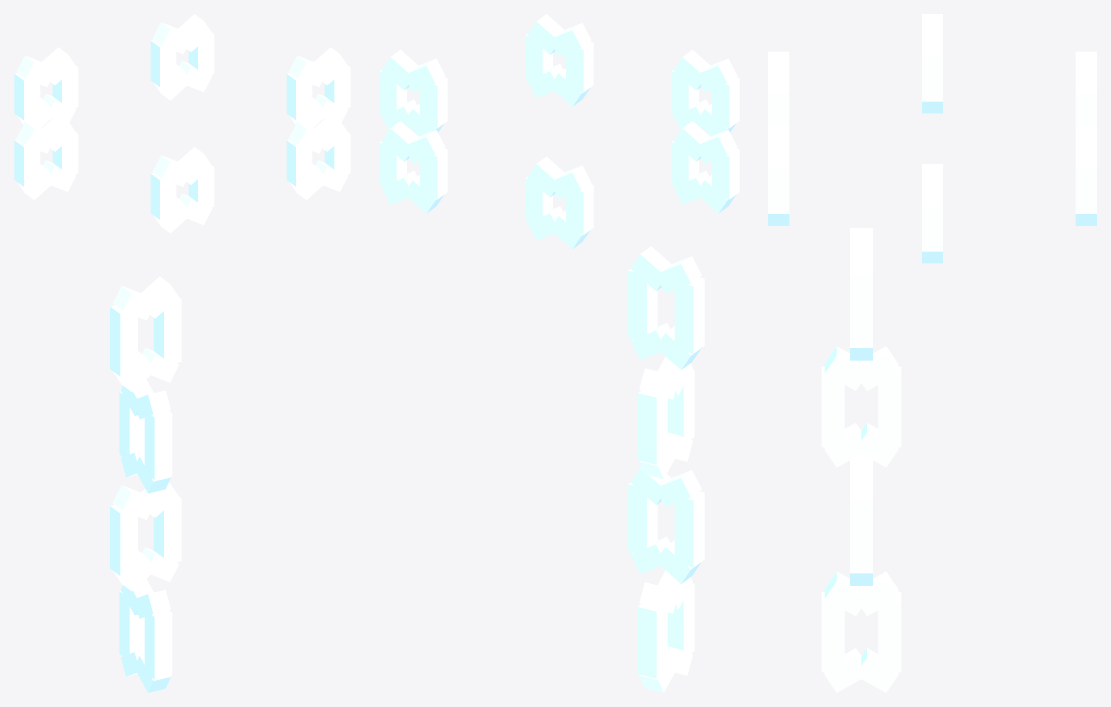
Rendered from hero_chain_wrap.glb.
The picture shows the model from 3 angles, left to right: view 1: azimuth 30°, elevation 25°; view 2: azimuth 150°, elevation 25°; view 3: azimuth 270°, elevation 25°; orthographic projection. The views are drawn at different scales.
Parts seen in each view (by area): view 1: hero_chain_wrap; view 2: hero_chain_wrap; view 3: hero_chain_wrap.
Boxes of the visible parts, left/top/right/bottom form: hero_chain_wrap: left=14, top=14, right=350, bottom=692; hero_chain_wrap: left=379, top=14, right=739, bottom=692; hero_chain_wrap: left=768, top=14, right=1096, bottom=692.
Size of the model in its own units: 0.24 by 0.3899 by 0.1852.
